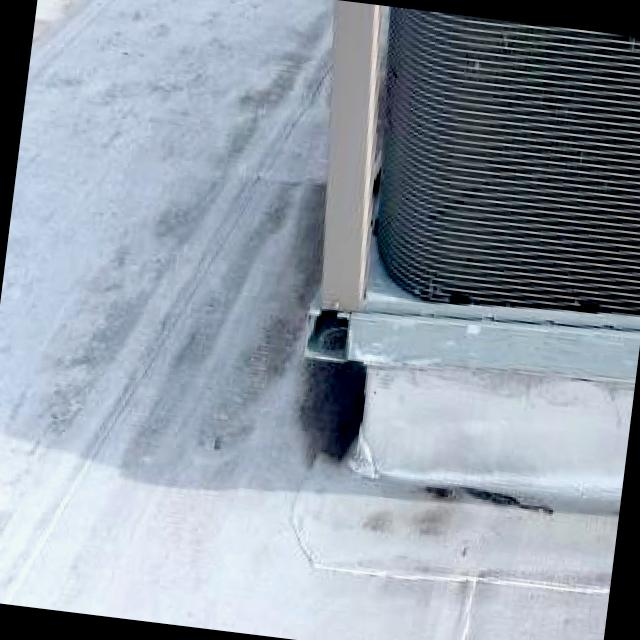SPLIT-SYSTEM: (253, 0, 640, 418)
